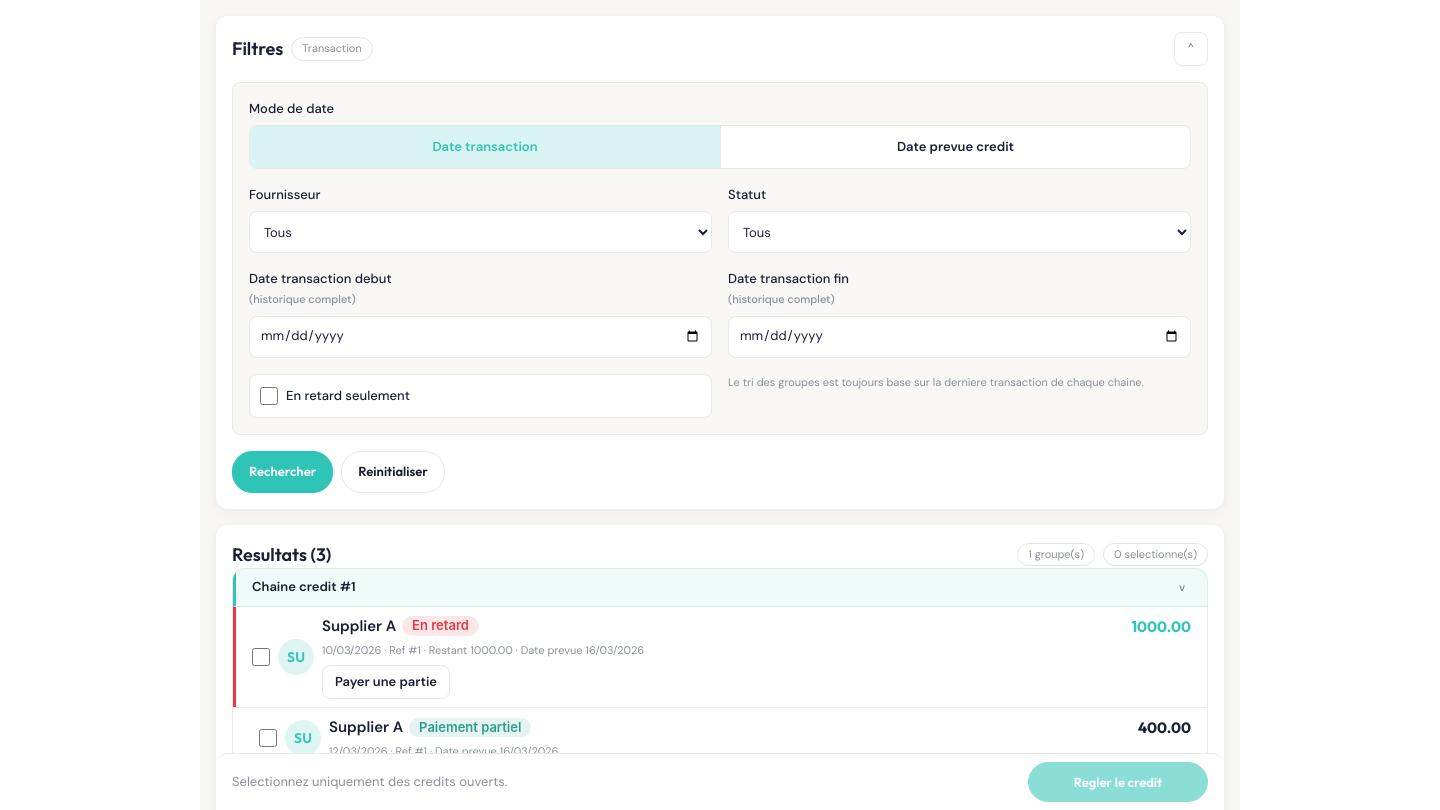
Test: PaymentsSearch credit chains › shows already-over-limit notice and proceeds without extra blocking
The image size is (1440, 810).
Click the checkbox named "Selectionner transaction 1" at (261, 657), box top-left (252, 648), bottom-right (270, 666)
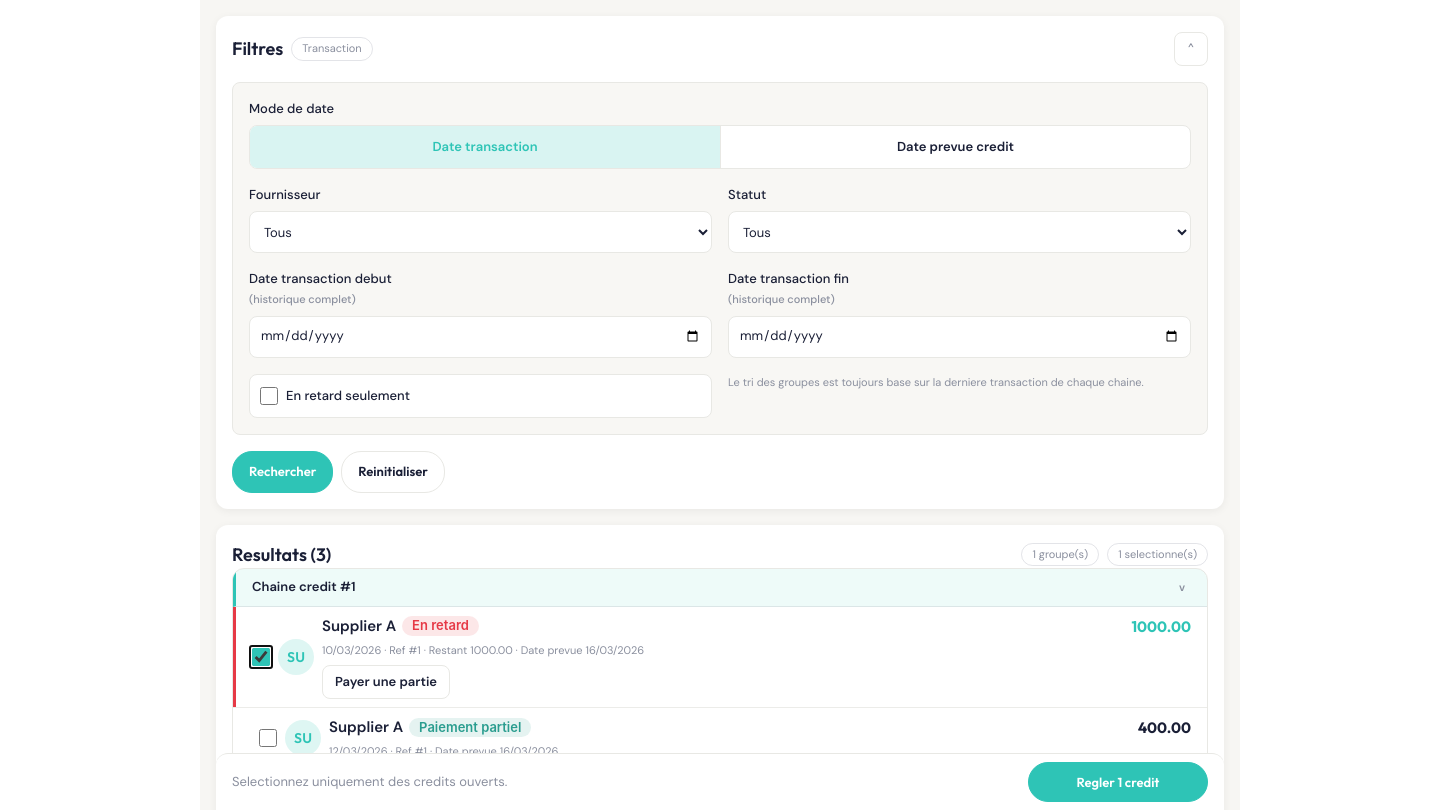
Click the button "Regler 1 credit" at (1118, 782), box top-left (1028, 762), bottom-right (1208, 802)
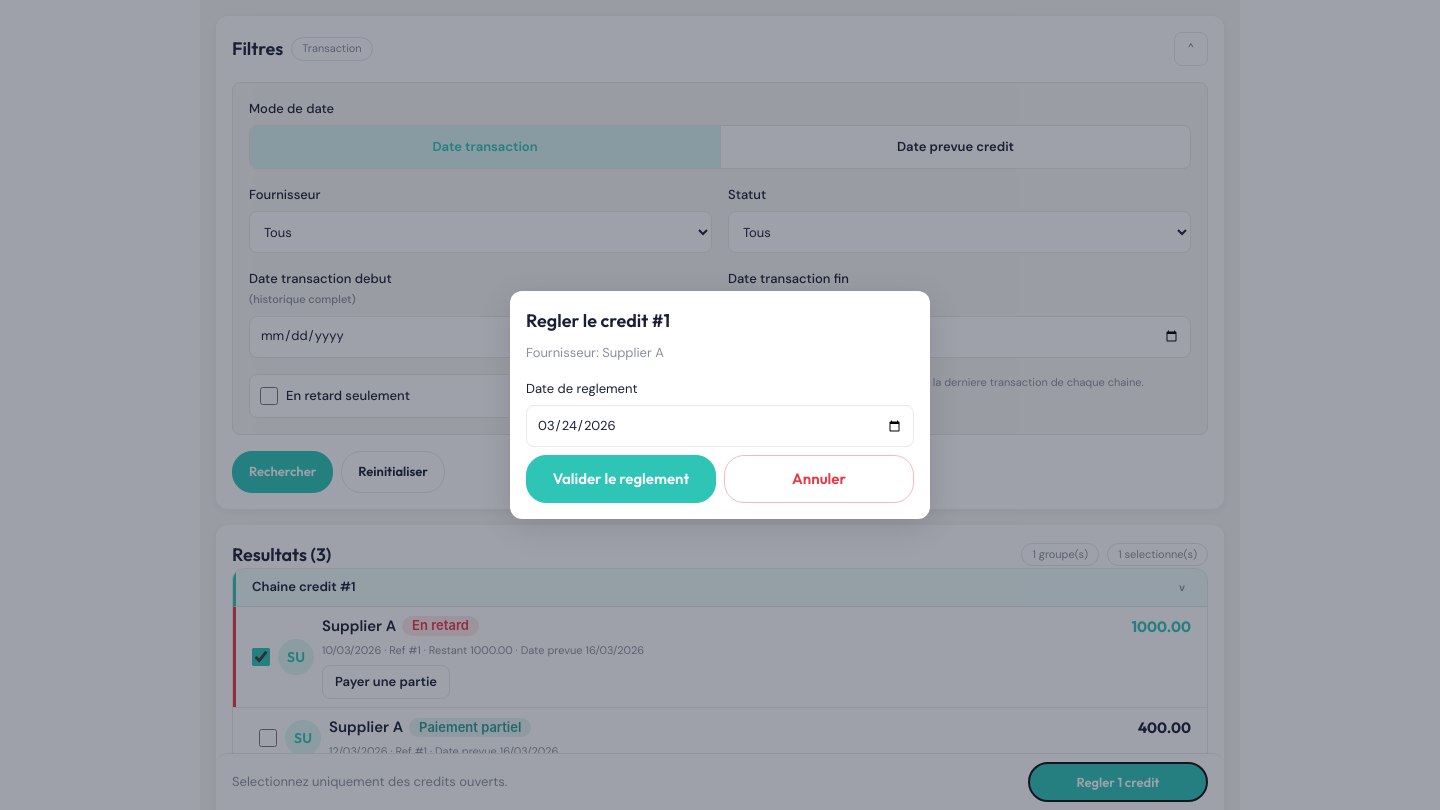
Click the button "Valider le reglement" at (621, 479), box top-left (526, 455), bottom-right (716, 503)
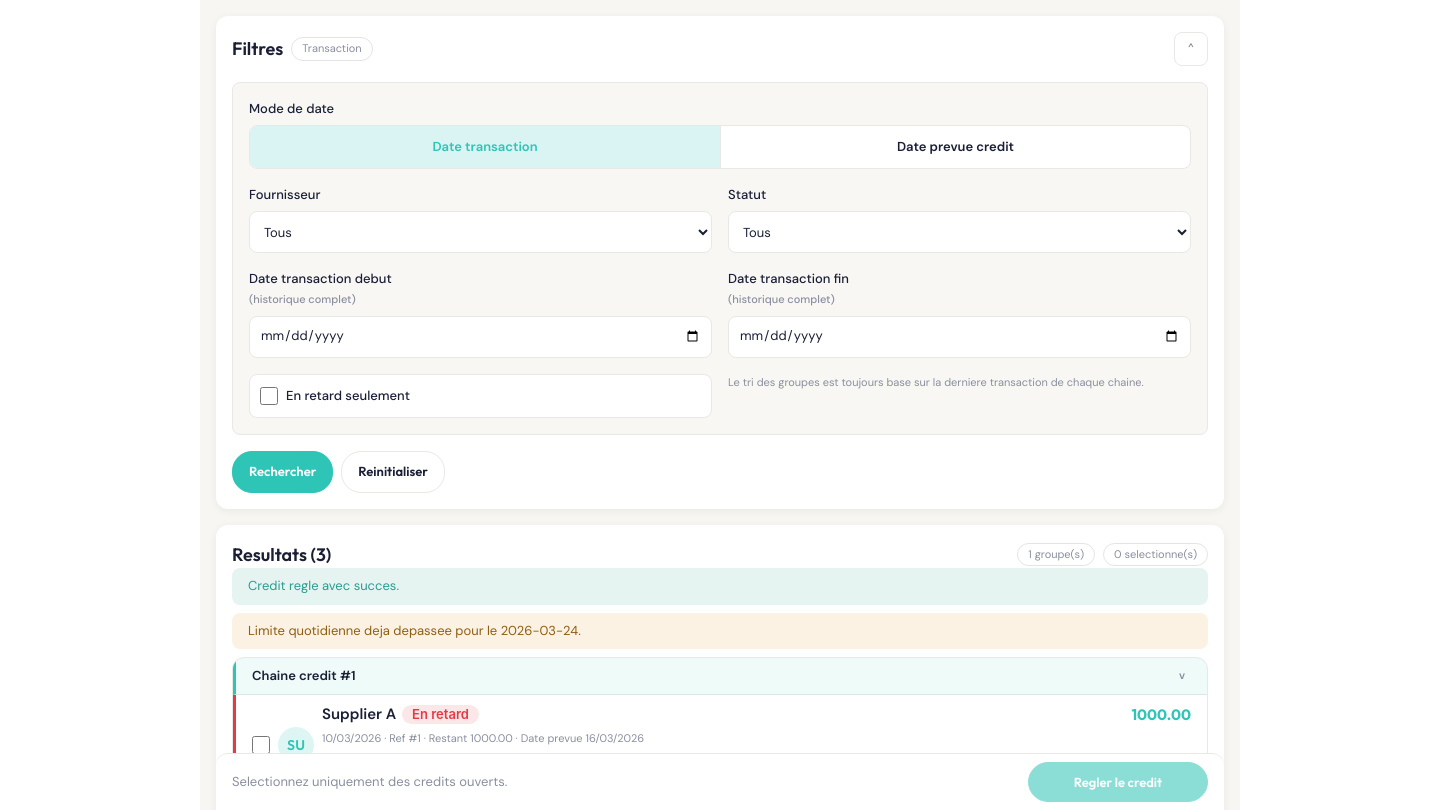
Expected: the text "Limite quotidienne deja depassee pour le 2026-03-24." is shown, top-left (232, 613), bottom-right (1208, 649)
